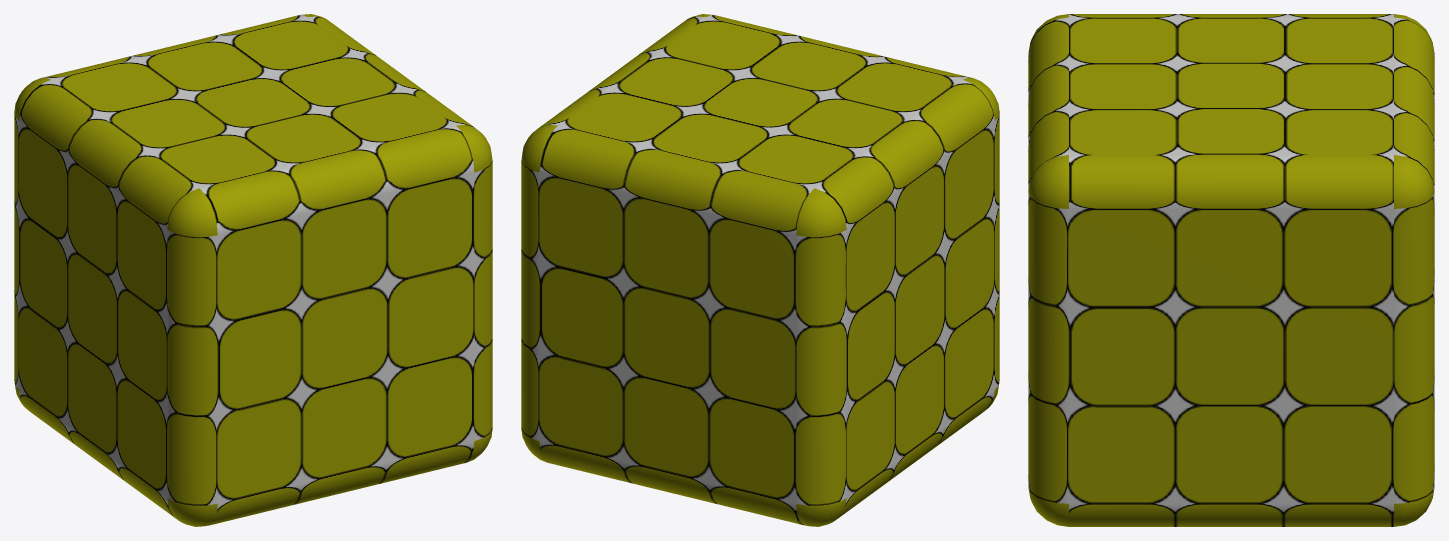
File: New_Ground.fbx
The picture shows the model from 3 angles, left to right: view 1: azimuth 30°, elevation 25°; view 2: azimuth 150°, elevation 25°; view 3: azimuth 270°, elevation 25°; orthographic projection. The views are drawn at different scales.
Visible parts, largest first — view 1: pCube17; view 2: pCube17; view 3: pCube17.
Boxes of the visible parts, bbox=[...] form: pCube17: bbox=[14, 14, 492, 526]; pCube17: bbox=[521, 14, 999, 526]; pCube17: bbox=[1028, 14, 1434, 526].
Bounding box in the file's own units: 100 × 100 × 100.
